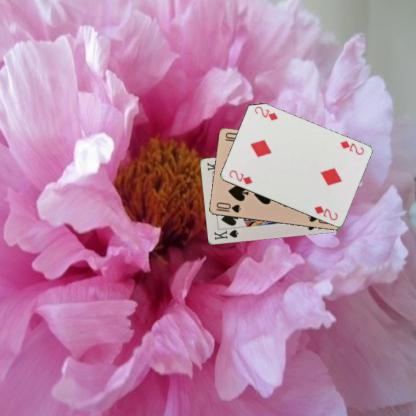10s: (213, 200, 242, 214)
2d: (338, 138, 366, 156), (227, 168, 253, 186)
Ks: (211, 227, 240, 241)
